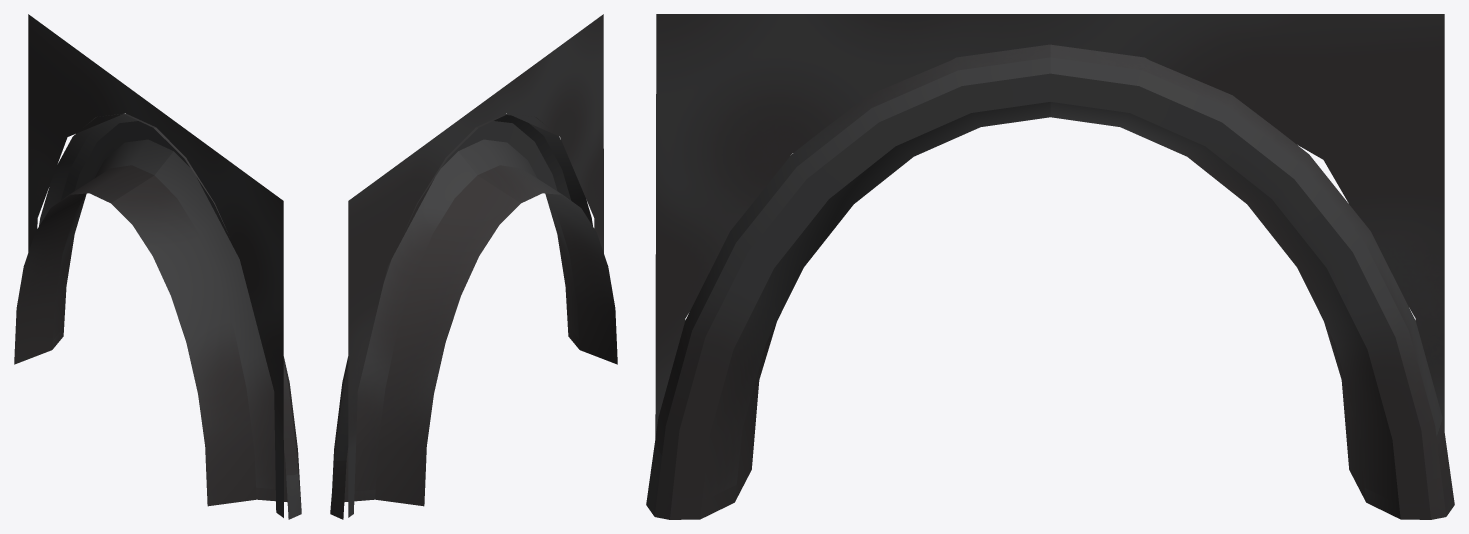
File: SM_ArchWall 1.fbx
The picture shows the model from 3 angles, left to right: view 1: azimuth 30°, elevation 25°; view 2: azimuth 150°, elevation 25°; view 3: azimuth 270°, elevation 25°; orthographic projection. The views are drawn at different scales.
Parts seen in each view (by area): view 1: SmallArch, SmallArchWall; view 2: SmallArch, SmallArchWall; view 3: SmallArch, SmallArchWall.
Part boxes in pixels (x1=…): SmallArch: x1=14, y1=113, x2=301, y2=519; SmallArchWall: x1=28, y1=14, x2=283, y2=517; SmallArch: x1=330, y1=113, x2=617, y2=519; SmallArchWall: x1=348, y1=14, x2=603, y2=517; SmallArch: x1=646, y1=44, x2=1454, y2=519; SmallArchWall: x1=655, y1=14, x2=1444, y2=437.
Size of the model in its own units: 45.46 by 205 by 307.
